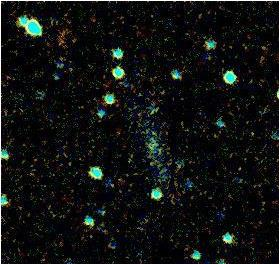star: (47, 25, 77, 55)
